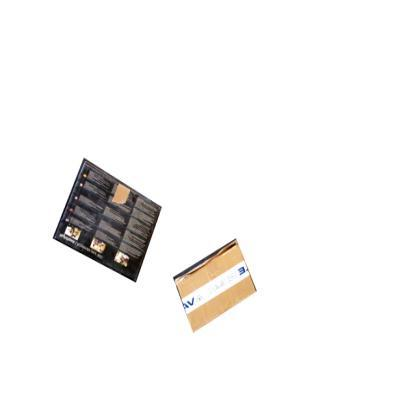package: (55, 161, 161, 282), (174, 238, 256, 332)
